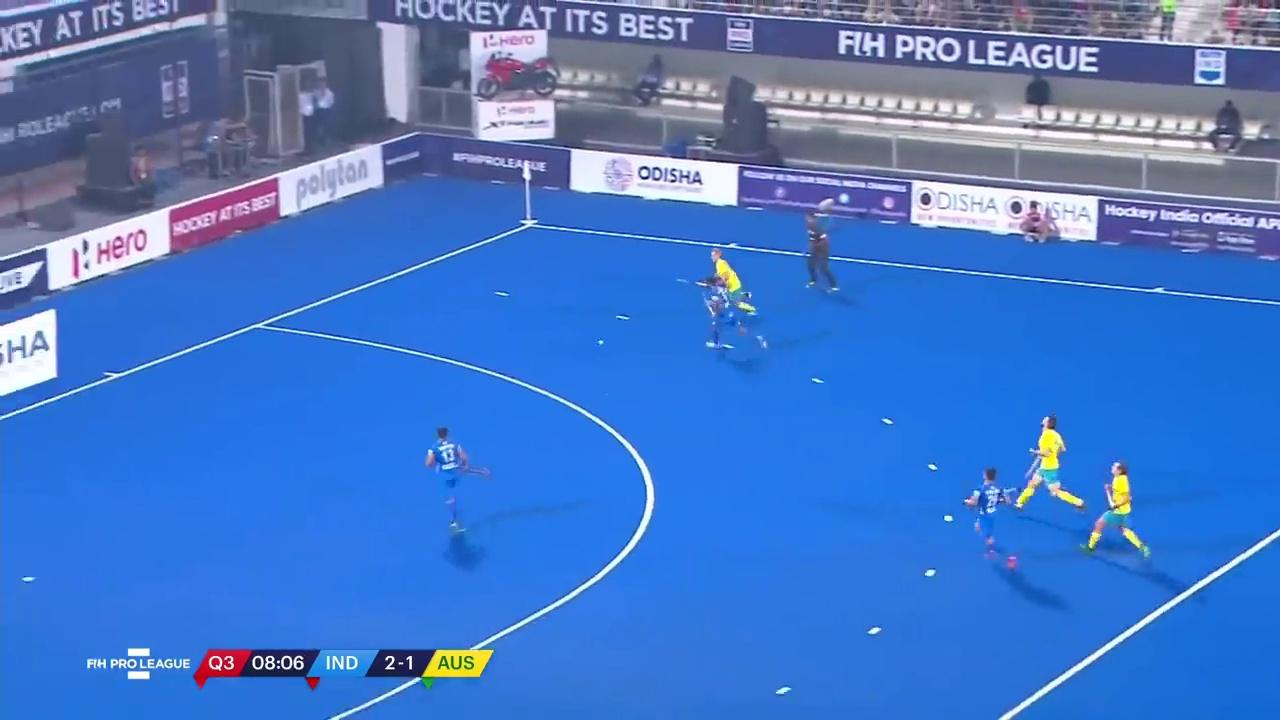ball: (595, 335, 606, 348)
